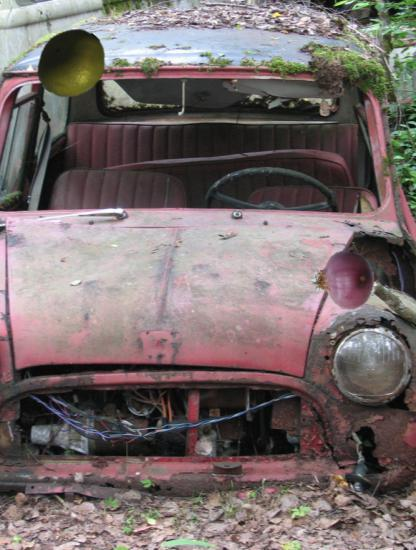Onion: (301, 239, 381, 319)
Pomelo: (35, 27, 108, 100)
